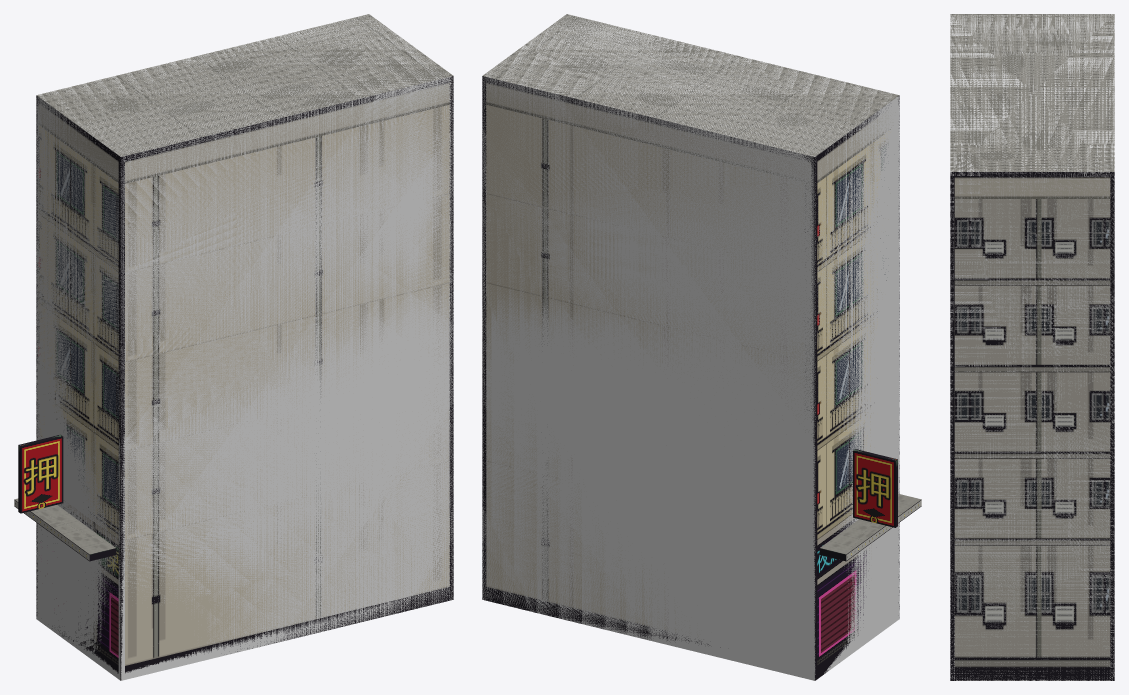
3 views of the same model, side by side, from view 1: azimuth 30°, elevation 25°; view 2: azimuth 150°, elevation 25°; view 3: azimuth 270°, elevation 25° (orthographic). The views are drawn at different scales.
Parts seen in each view (by area): view 1: COL_19D-W18_0, 19D-W18; view 2: COL_19D-W18_0, 19D-W18; view 3: 19D-W18, COL_19D-W18_0.
Boxes of the visible parts, box(x1,y1,x2,y2) form: COL_19D-W18_0: box(36, 14, 453, 680); 19D-W18: box(14, 14, 453, 680); COL_19D-W18_0: box(482, 14, 899, 680); 19D-W18: box(482, 14, 921, 680); 19D-W18: box(950, 14, 1114, 680); COL_19D-W18_0: box(950, 14, 1114, 680).
Bounding box in the file's own units: 14.35 × 18.8 × 5.5.
1 material, 1 textured.
